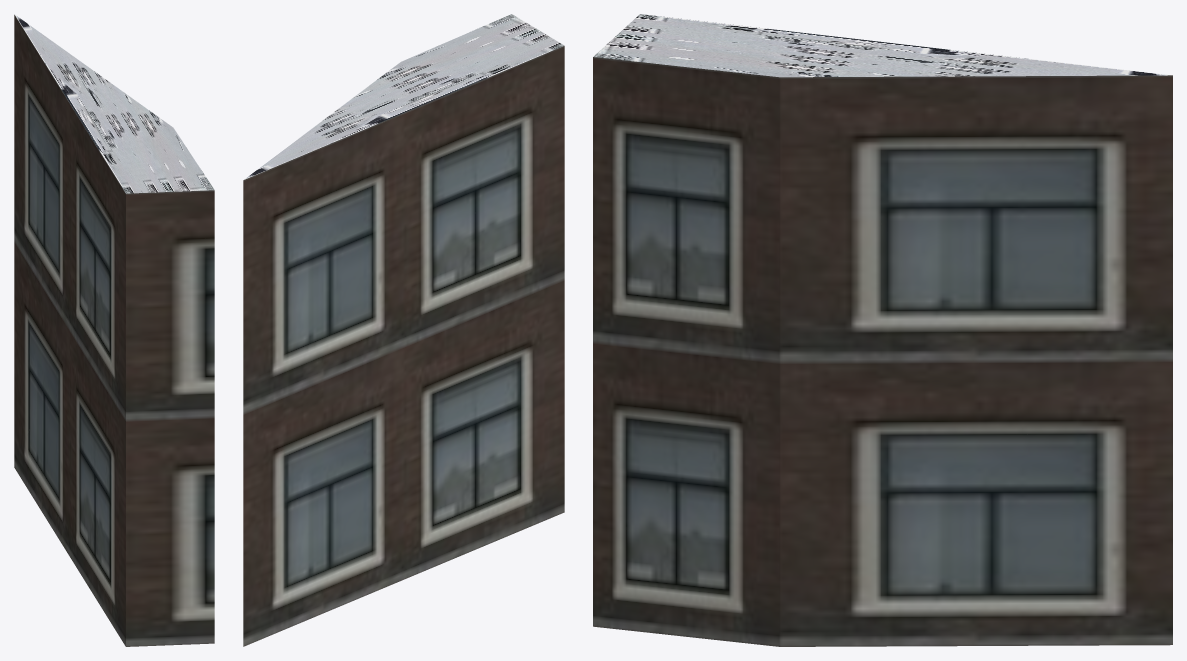
Rendered from ResTex__4649.fbx.
3 views of the same model, side by side, from view 1: azimuth 30°, elevation 25°; view 2: azimuth 150°, elevation 25°; view 3: azimuth 270°, elevation 25° (orthographic). The views are drawn at different scales.
Visible parts, largest first — view 1: CityEngineMaterial_16_m, CityEngineMaterial_15_m; view 2: CityEngineMaterial_16_m, CityEngineMaterial_15_m; view 3: CityEngineMaterial_16_m, CityEngineMaterial_15_m.
Part boxes in pixels (x1,y1,x2,y2): CityEngineMaterial_16_m: [14, 15, 214, 646]; CityEngineMaterial_15_m: [14, 14, 214, 193]; CityEngineMaterial_16_m: [243, 46, 564, 646]; CityEngineMaterial_15_m: [244, 14, 564, 179]; CityEngineMaterial_16_m: [593, 57, 1172, 646]; CityEngineMaterial_15_m: [593, 14, 1169, 77].
Bounding box in the file's own units: 1.43 × 6 × 5.54.
2 materials, 2 textured.
